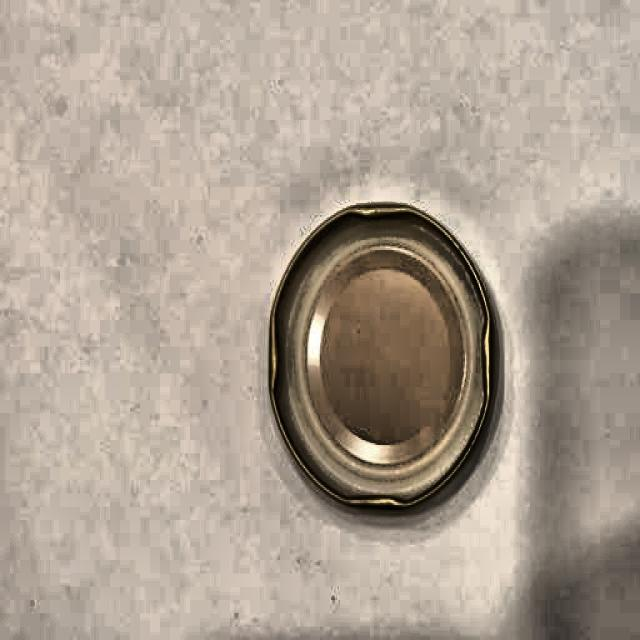metal: (269, 203, 499, 513)
